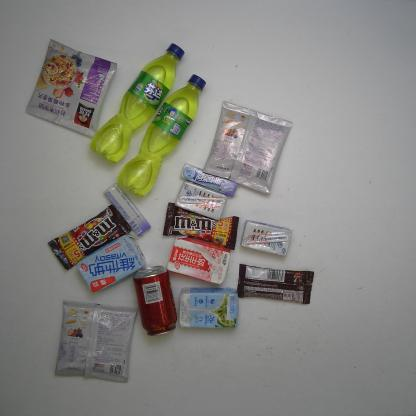Candy: (103, 183, 151, 237), (180, 162, 238, 198)
Chocolate: (45, 203, 131, 272), (162, 202, 240, 252), (236, 262, 315, 306)
Drink: (87, 41, 186, 166), (114, 72, 209, 197), (132, 263, 178, 336)
Instant Drink: (23, 35, 118, 138), (202, 98, 294, 198), (51, 298, 140, 385)
Milk: (75, 232, 146, 294), (166, 235, 232, 286), (178, 287, 239, 330), (173, 181, 227, 221), (240, 219, 292, 257)
